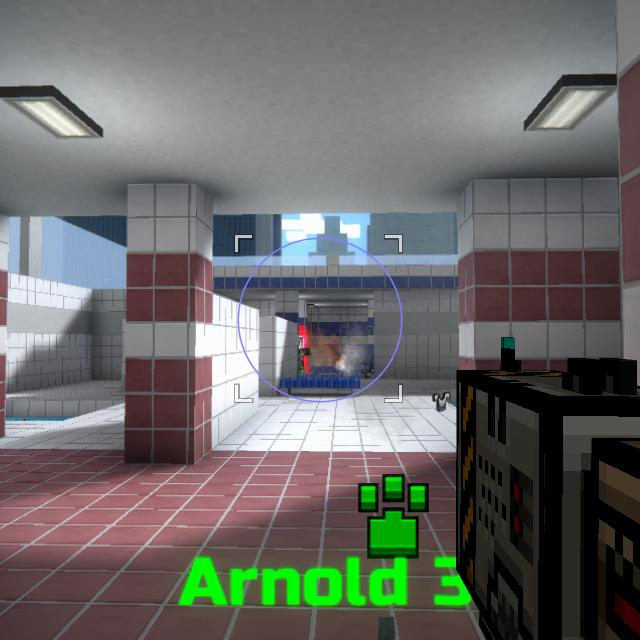Enemy: (300, 335, 310, 375)
